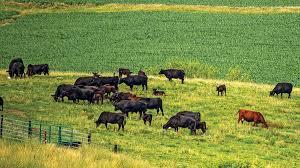cow: (112, 101, 148, 119), (237, 108, 269, 126), (128, 96, 164, 112), (95, 111, 127, 129), (164, 116, 196, 133), (269, 82, 294, 100), (69, 89, 96, 105), (91, 76, 121, 89), (53, 85, 80, 99), (158, 70, 187, 83), (117, 77, 148, 88), (9, 59, 26, 76), (74, 76, 98, 87), (28, 64, 50, 76), (110, 92, 135, 102), (176, 112, 201, 120), (214, 84, 229, 94), (115, 67, 133, 75), (141, 113, 153, 124), (191, 123, 207, 131), (150, 89, 168, 96), (151, 88, 166, 95), (137, 71, 148, 78)
